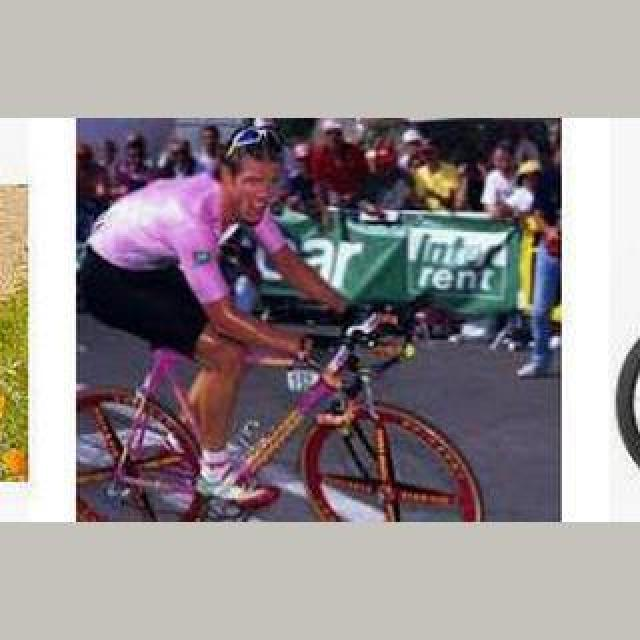MC-Bike: (82, 130, 334, 516), (508, 160, 560, 378), (308, 120, 370, 208), (408, 142, 462, 212), (480, 144, 520, 218)
Person: (76, 298, 486, 522)
